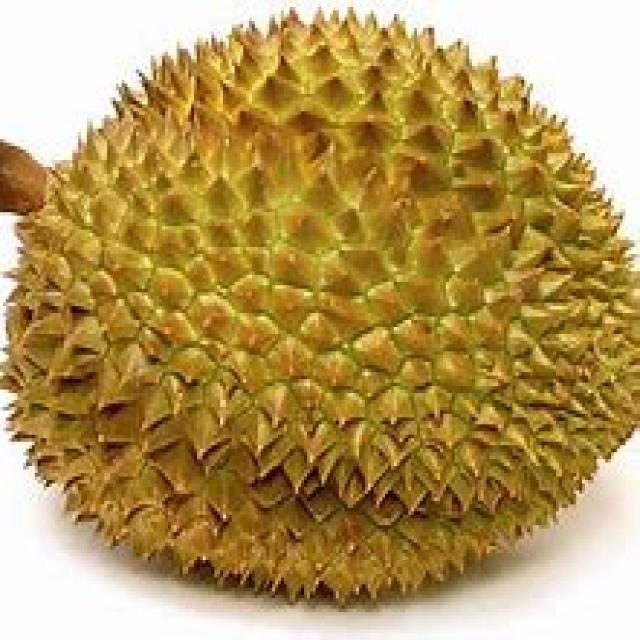mature: (2, 12, 640, 603)
